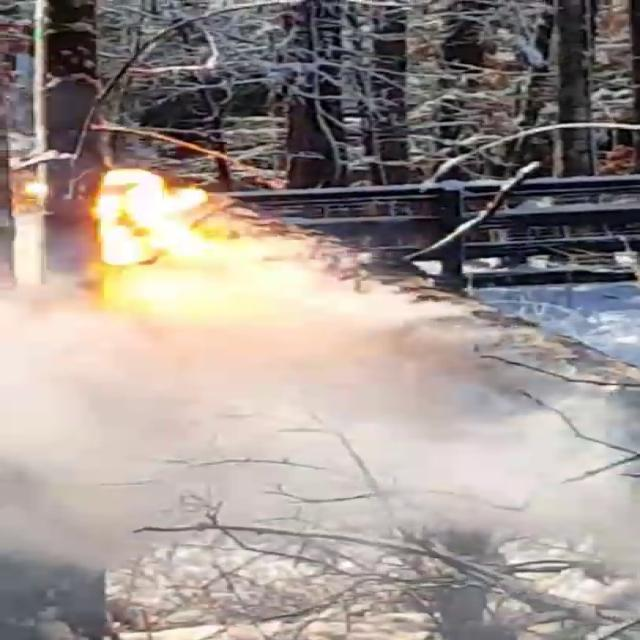Fire: (62, 161, 337, 316)
Smoke: (2, 285, 636, 631)
